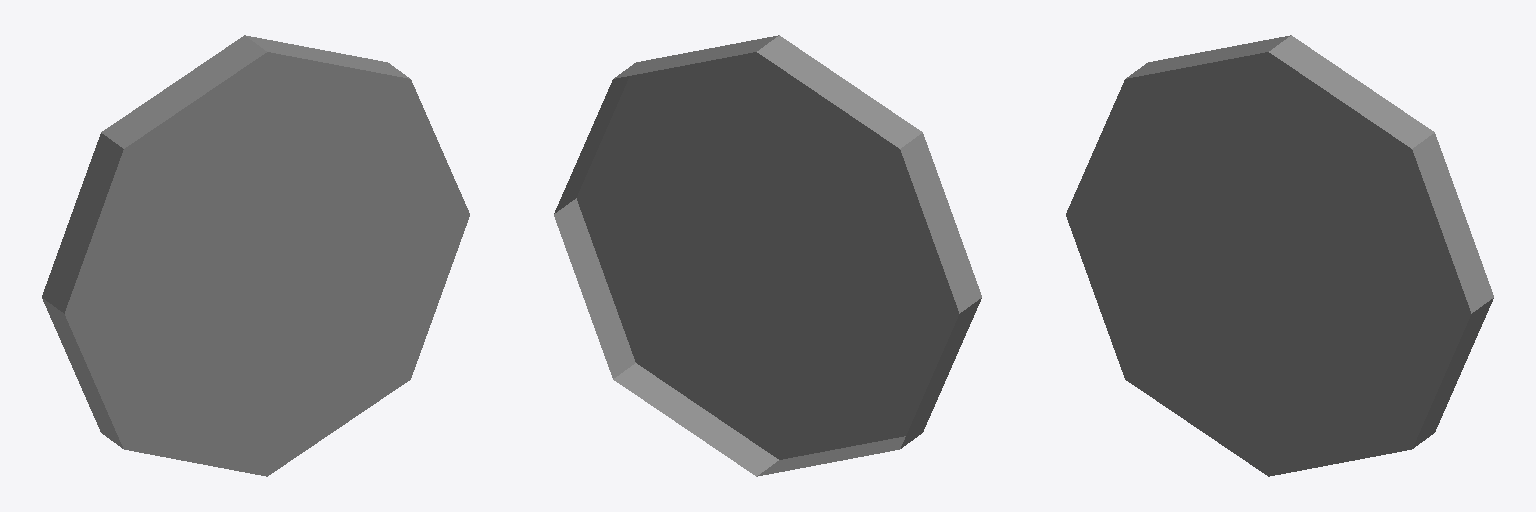
File: luce.obj
3 views of the same model, side by side, from view 1: azimuth 30°, elevation 25°; view 2: azimuth 150°, elevation 25°; view 3: azimuth 330°, elevation 25° (orthographic).
Parts seen in each view (by area): view 1: Cylinder001_Mesh.002; view 2: Cylinder001_Mesh.002; view 3: Cylinder001_Mesh.002.
Part boxes in pixels (left/top/right/bottom): Cylinder001_Mesh.002: left=42, top=35, right=469, bottom=476; Cylinder001_Mesh.002: left=554, top=35, right=981, bottom=476; Cylinder001_Mesh.002: left=1066, top=35, right=1493, bottom=476.
Bounding box in the file's own units: 0.0554 × 0.0554 × 0.0054.